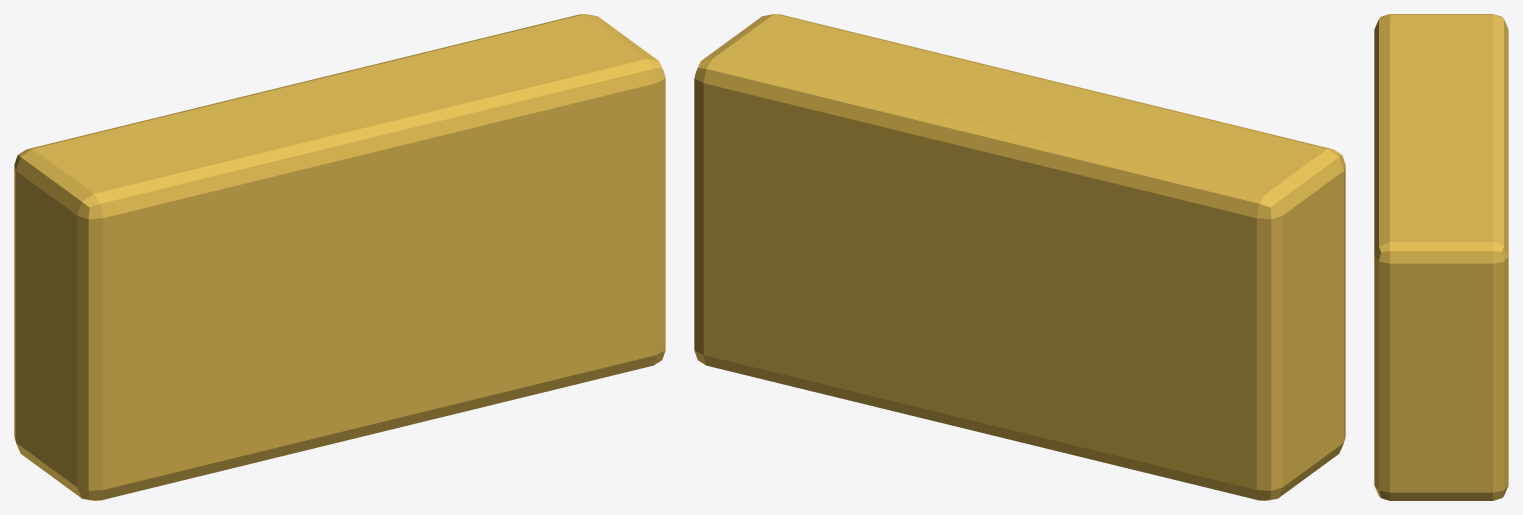
File: block_rectangleThin.fbx
3 views of the same model, side by side, from view 1: azimuth 30°, elevation 25°; view 2: azimuth 150°, elevation 25°; view 3: azimuth 270°, elevation 25° (orthographic). The views are drawn at different scales.
Visible parts, largest first — view 1: RectangleThin; view 2: RectangleThin; view 3: RectangleThin.
Part boxes in pixels (box(x1,y1,x2,y2)): RectangleThin: box(14, 14, 665, 500); RectangleThin: box(694, 14, 1345, 500); RectangleThin: box(1374, 14, 1508, 500).
Bounding box in the file's own units: 104 × 52.21 × 24.54.
